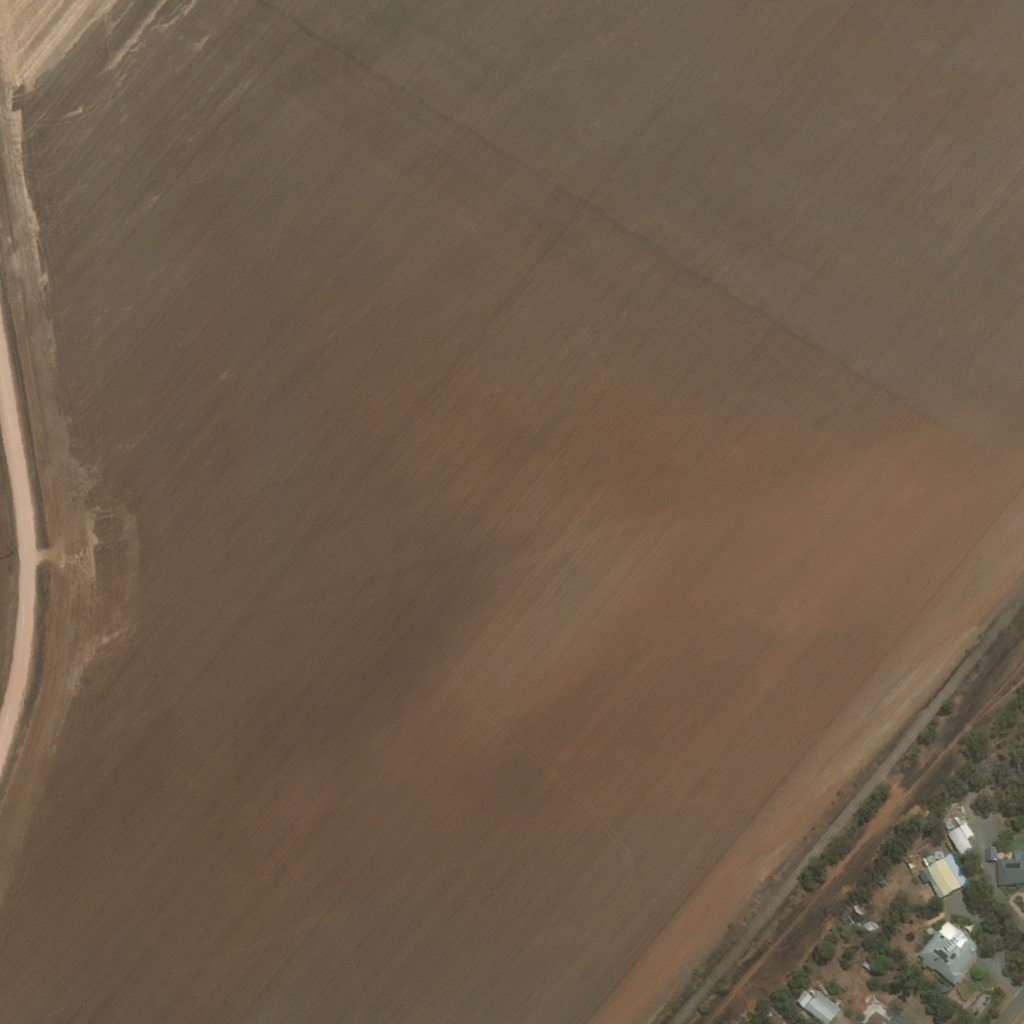0 no-damage: (914, 917, 985, 987), (915, 852, 969, 900), (804, 993, 841, 1023), (995, 849, 1023, 886), (947, 825, 973, 855), (795, 990, 812, 1009), (958, 821, 974, 839), (984, 845, 995, 861), (802, 988, 814, 997), (926, 853, 935, 862), (995, 851, 1003, 860), (934, 850, 941, 858), (957, 819, 966, 825)
4 un-classified: (861, 1010, 904, 1023)
